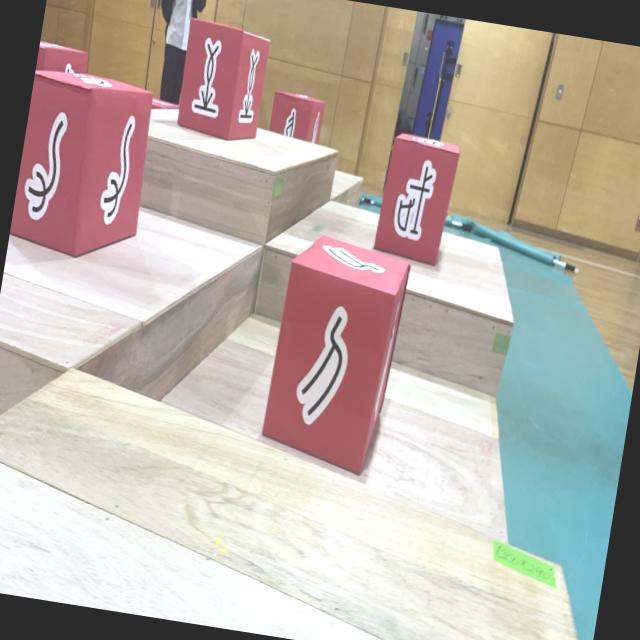10: (288, 300, 356, 434), (320, 244, 388, 278)
11: (282, 106, 298, 138), (311, 108, 322, 144)
13: (18, 106, 72, 225), (94, 110, 140, 233)
5: (390, 155, 440, 245)
7: (190, 36, 231, 120), (237, 48, 264, 126)
fighter: (256, 228, 414, 478), (8, 65, 160, 268), (172, 18, 273, 147), (372, 131, 462, 268), (267, 90, 326, 144)
